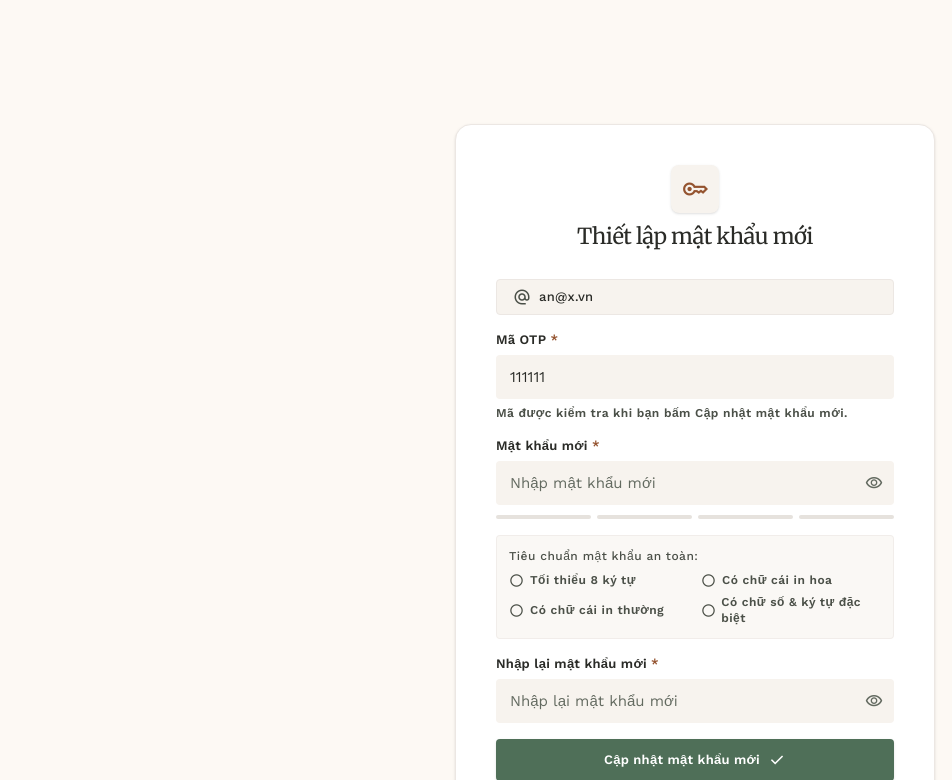
Scenario: ResetPasswordPage (SCR-05) › mã đúng: gửi đủ dữ liệu, báo thành công và chuyển sang trang đăng nhập
Type "Veggie@2027" into the password field labelled "Mật khẩu mới *".
click(695, 483); type("Veggie@2027")  # box 496,461 -> 894,505
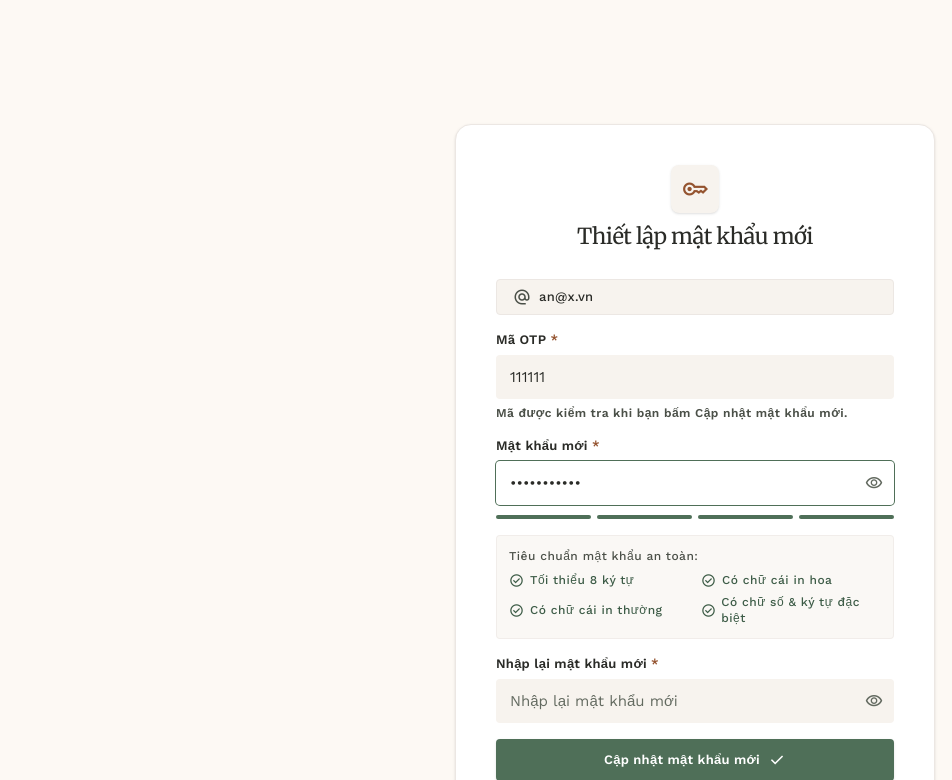
Type "Veggie@2027" into the password field labelled "Nhập lại mật khẩu mới *".
click(695, 701); type("Veggie@2027")  # box 496,679 -> 894,723
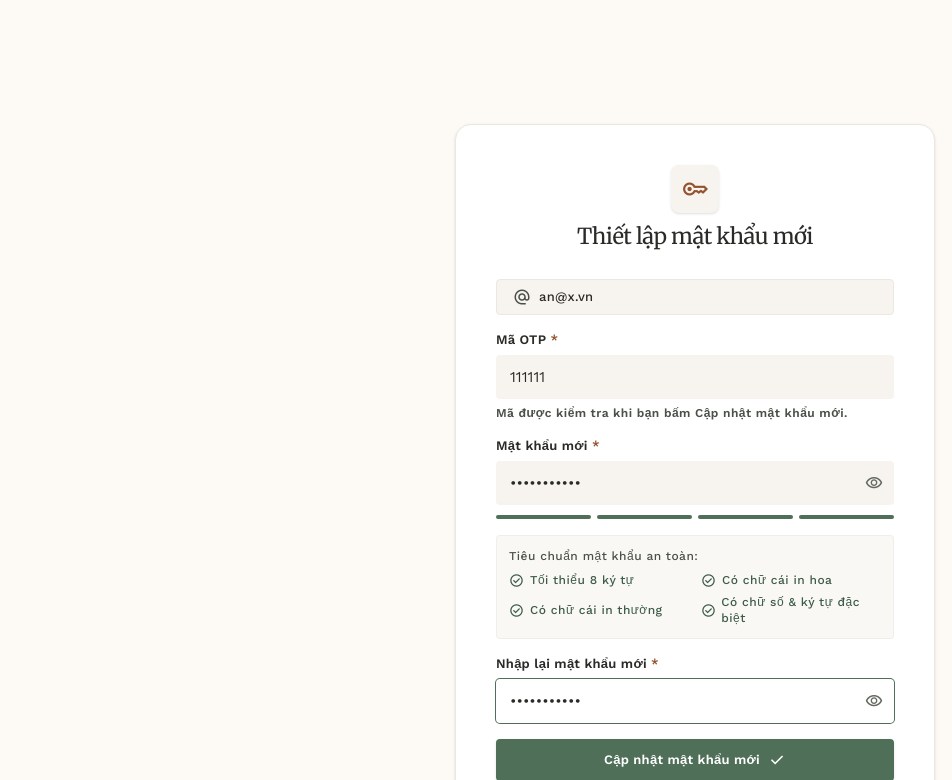
Click the button "Cập nhật mật khẩu mới".
click(695, 760)  # box 496,739 -> 894,779
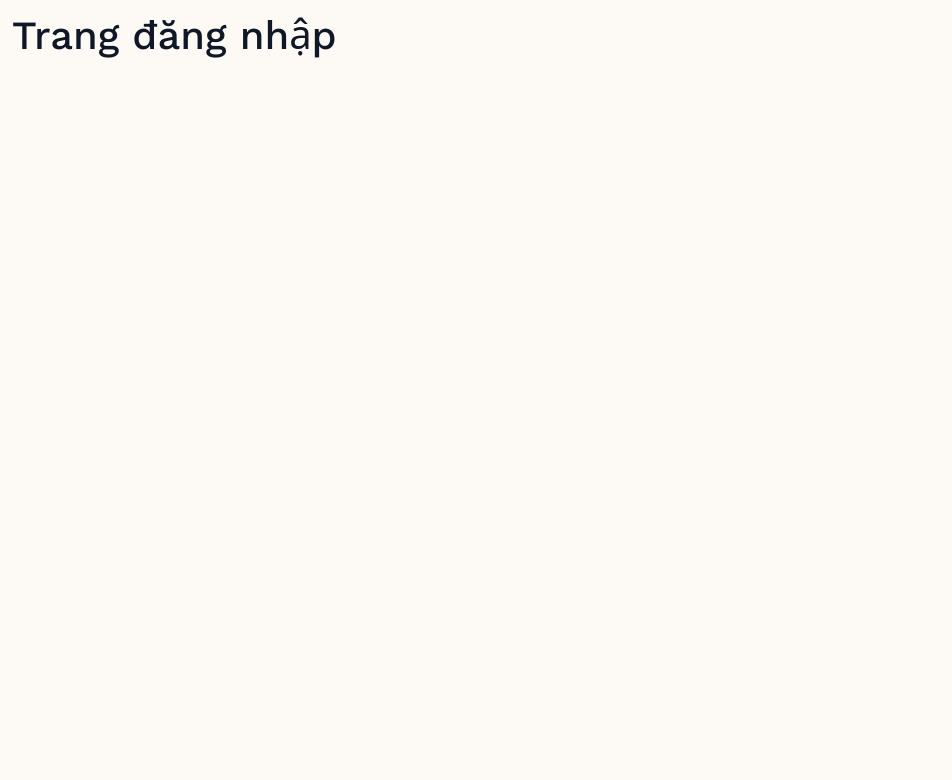
Check: the heading "Trang đăng nhập" is shown, box 12,12 -> 337,59
